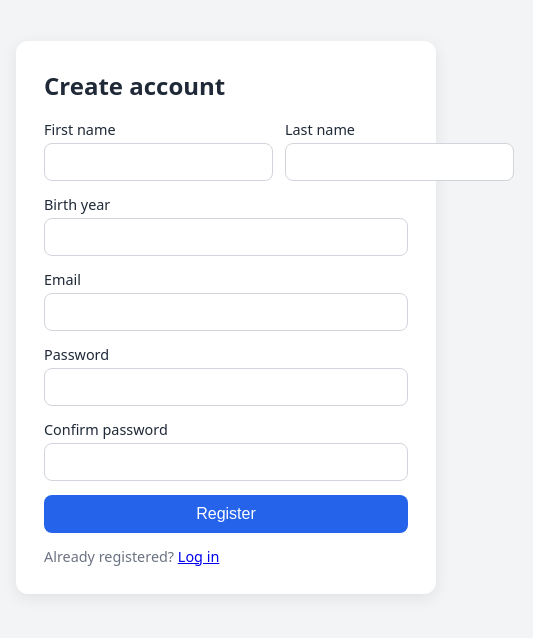
Test: Register page › shows the server error when the email is taken
Type "Jonas" into the field labelled "First name" at coordinates (158, 162), box 44,142 -> 273,180
Type "Jonaitis" into the field labelled "Last name" at coordinates (400, 162), box 285,142 -> 514,180
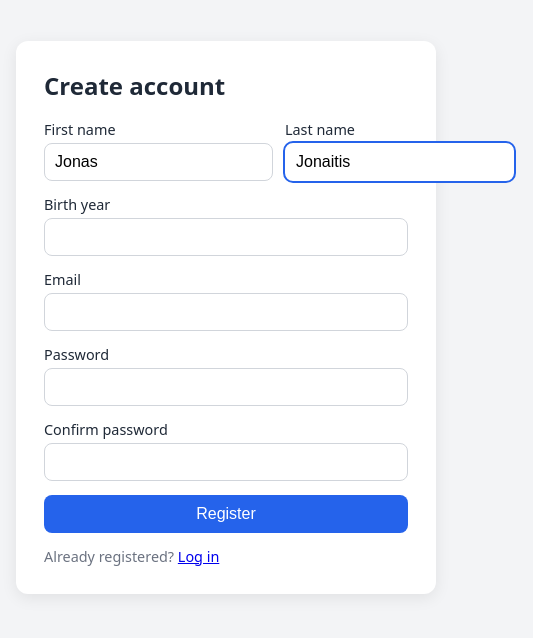
Type "2000" into the number field labelled "Birth year" at coordinates (226, 236), box 44,218 -> 408,256
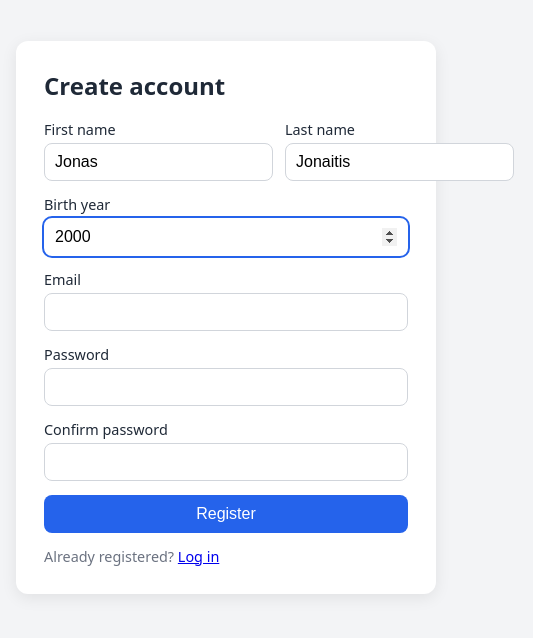
Type "jonas@test.lt" into the field labelled "Email" at coordinates (226, 312), box 44,292 -> 408,330
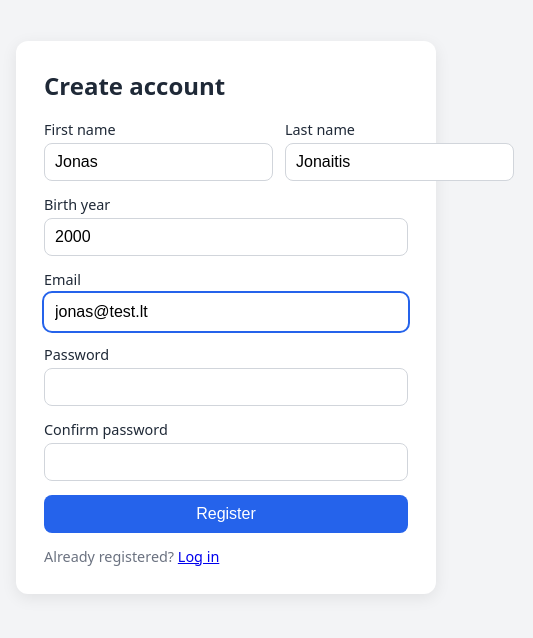
Type "password123" into the password field labelled "Password" at coordinates (226, 386), box 44,368 -> 408,406
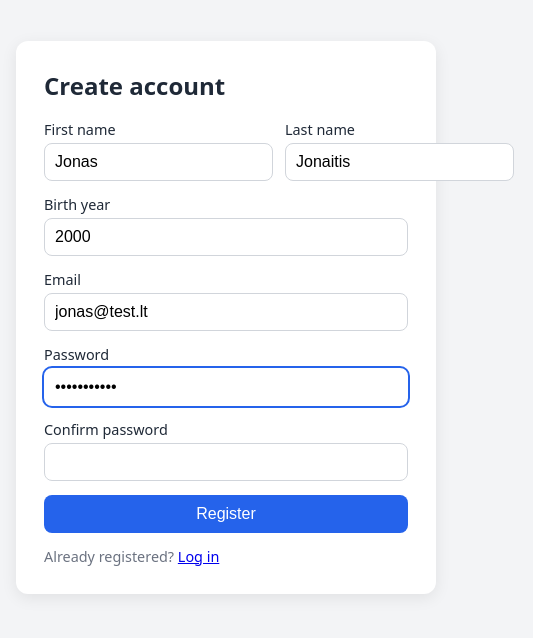
Type "password123" into the password field labelled "Confirm password" at coordinates (226, 462), box 44,442 -> 408,480
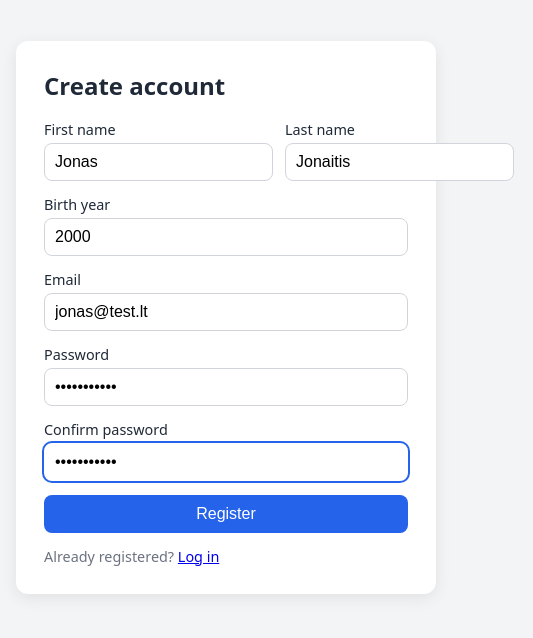
Click the button "Register" at coordinates (226, 514), box 44,494 -> 408,532
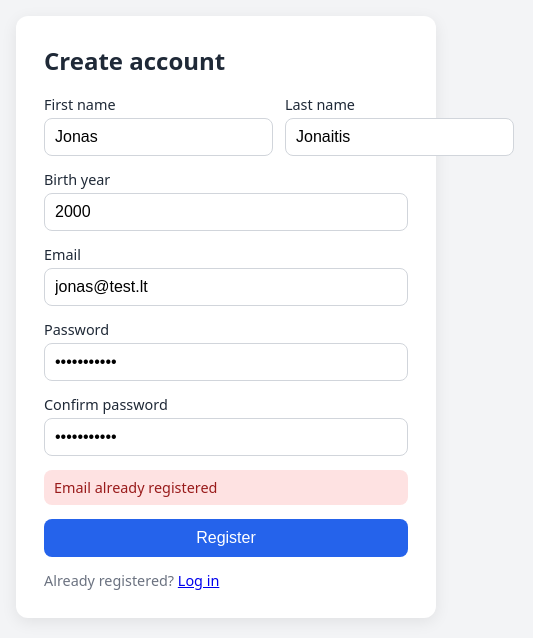
expect the text "Email already registered" is shown: met, box 44,470 -> 408,505
